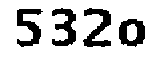2: (82, 7, 113, 50)
3: (46, 6, 80, 52)
5: (10, 4, 45, 52)
o: (116, 18, 150, 51)
